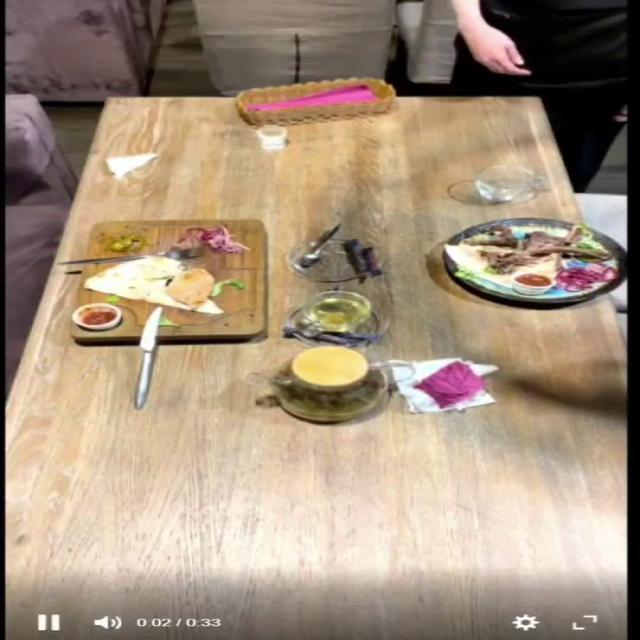meat: (422, 215, 640, 327), (68, 221, 268, 335)
tea: (268, 344, 387, 422)
